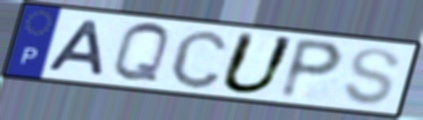A: (44, 17, 106, 78)
C: (167, 28, 231, 91)
P: (276, 36, 347, 102)
Q: (110, 20, 173, 85)
S: (340, 46, 403, 107)
U: (216, 30, 299, 97)
